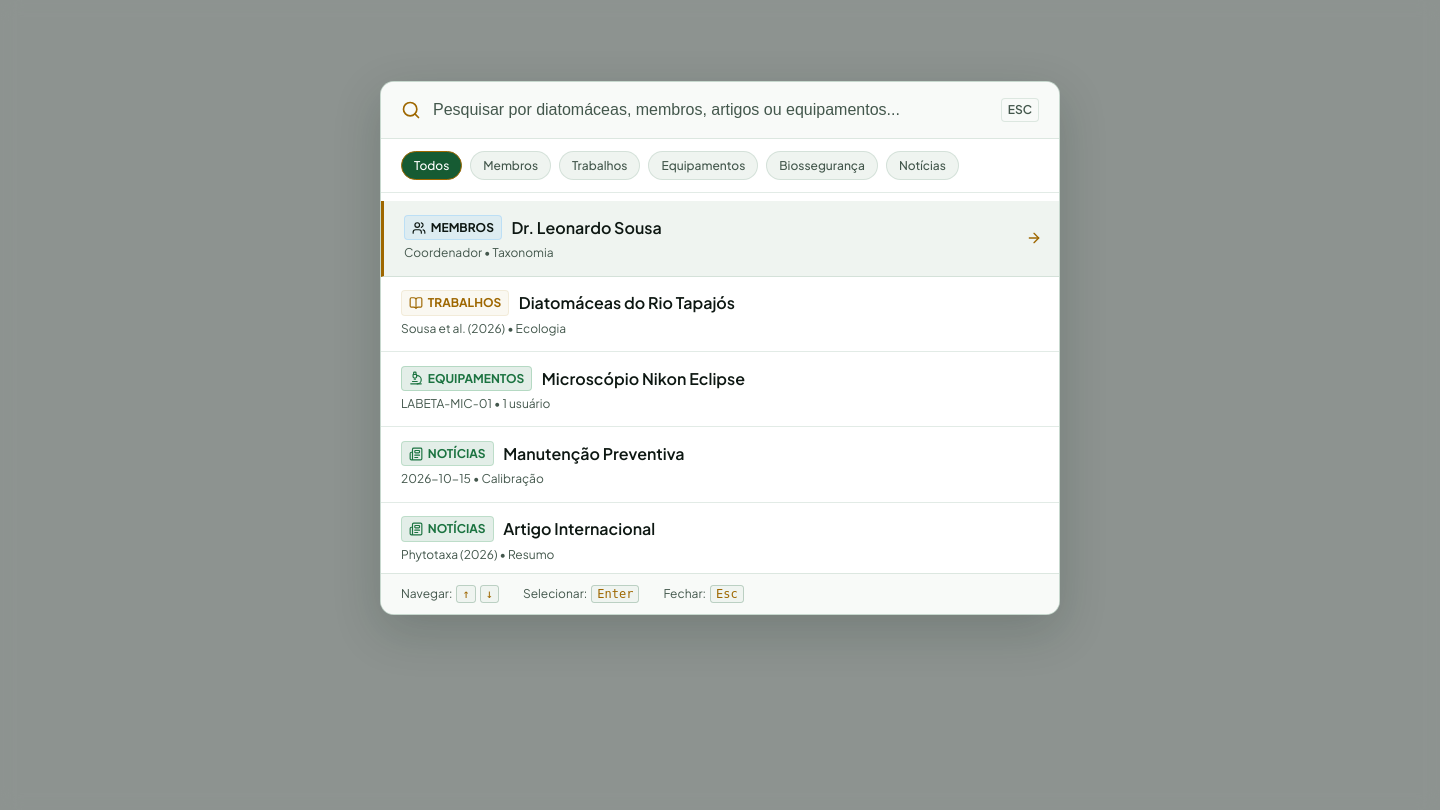
Test: SpotlightSearch Component › filters results by category pills
The width and height of the screenshot is (1440, 810).
expect the heading "Diatomáceas do Rio Tapajós" is shown: met, box [519, 290, 735, 316]
Click the button "Equipamentos": (703, 166) [648, 151, 758, 180]
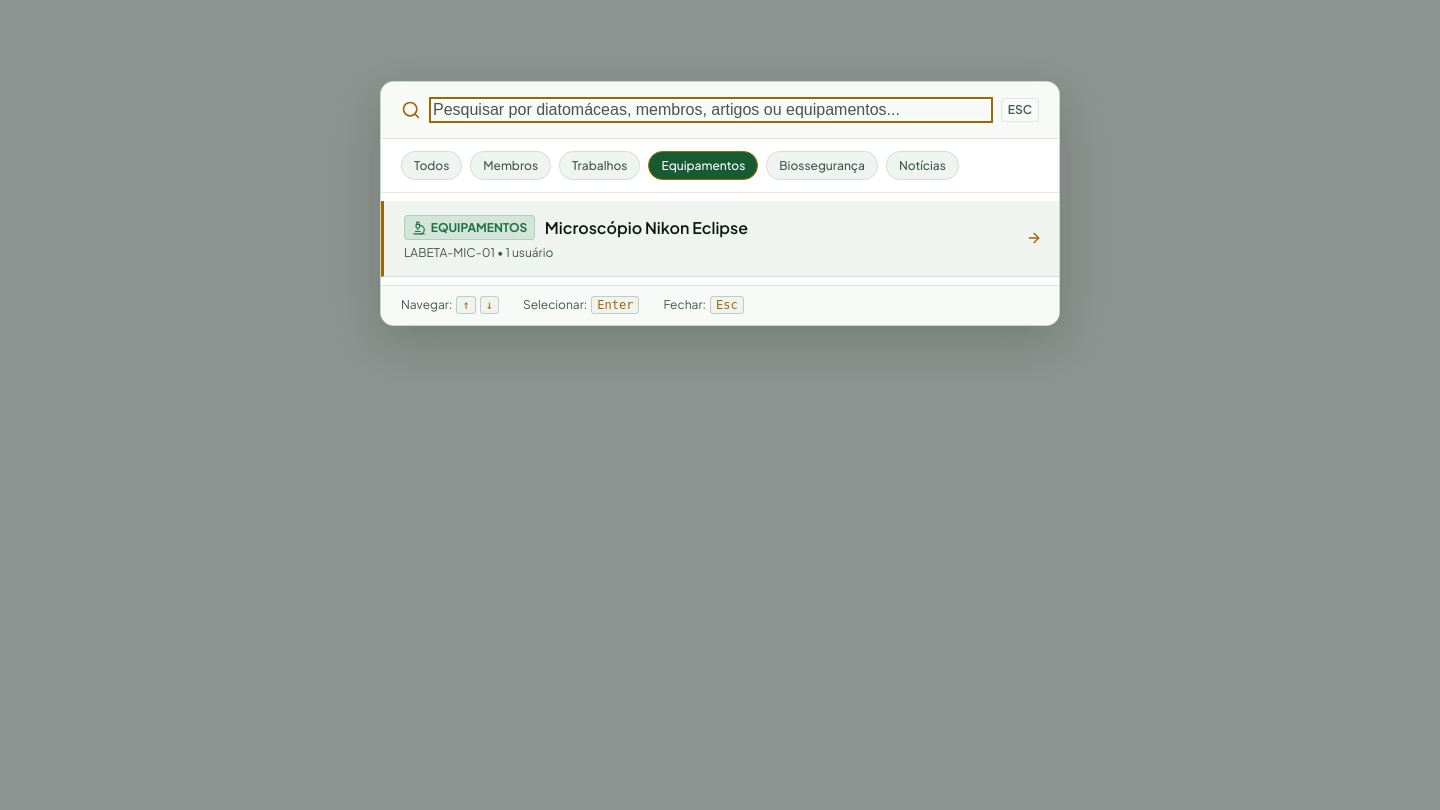
expect the heading "Microscópio Nikon Eclipse" is shown: met, box [545, 215, 748, 240]
expect the option "Diatomáceas do Rio Tapajós" is gone: met
